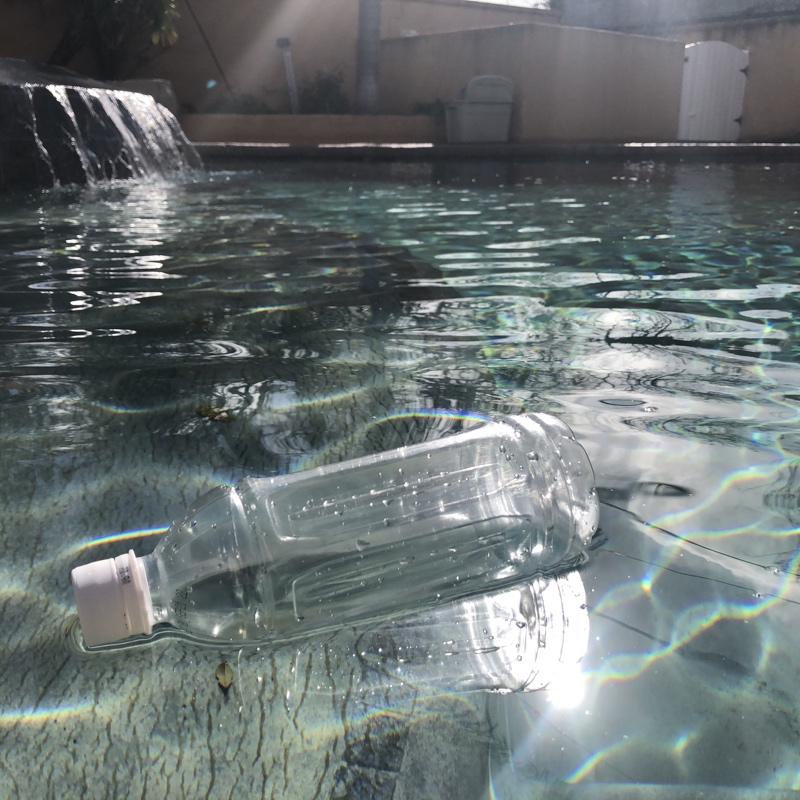Plastic Bottle: (68, 409, 610, 656)
